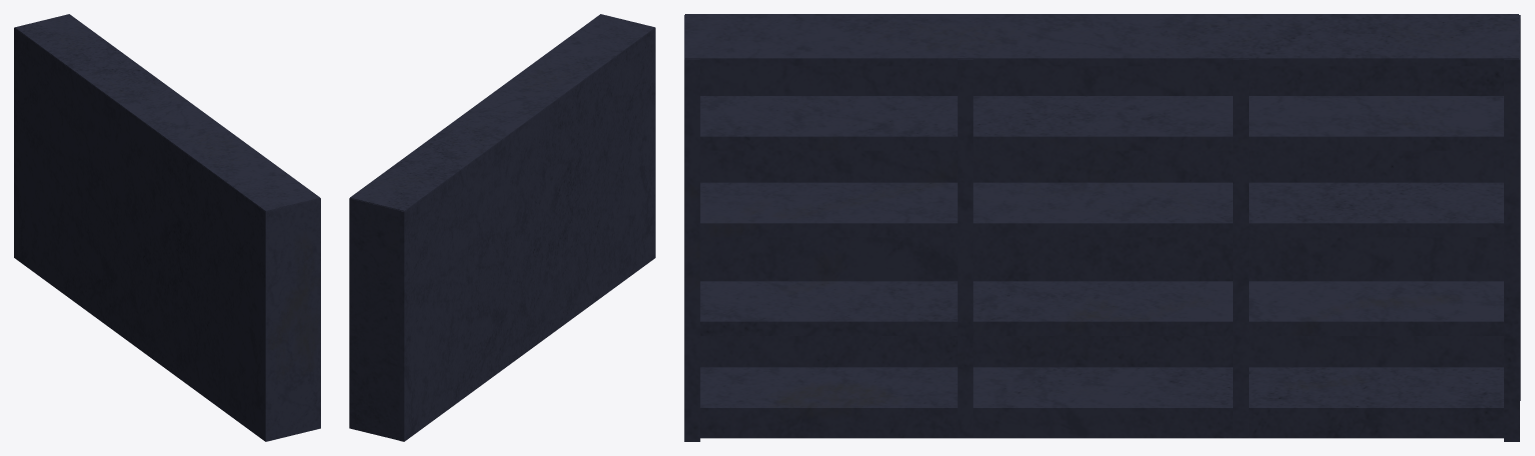
The model's file is bookshelf.fbx.
The picture shows the model from 3 angles, left to right: view 1: azimuth 30°, elevation 25°; view 2: azimuth 150°, elevation 25°; view 3: azimuth 270°, elevation 25°; orthographic projection. The views are drawn at different scales.
Parts seen in each view (by area): view 1: bookshelf:pCube1, bookshelf:pCube4, bookshelf:pCube3; view 2: bookshelf:pCube1, bookshelf:pCube4, bookshelf:pCube6; view 3: bookshelf:pCube1, bookshelf:pCube5, bookshelf:pCube4, bookshelf:pCube10, bookshelf:pCube11, bookshelf:pCube9, bookshelf:pCube3, bookshelf:pCube7, bookshelf:pCube6, bookshelf:pCube8.
Part boxes in pixels (x1,y1,x2,y2): bookshelf:pCube1: (14, 27, 265, 441); bookshelf:pCube4: (14, 14, 319, 211); bookshelf:pCube3: (265, 198, 320, 441); bookshelf:pCube1: (399, 28, 655, 441); bookshelf:pCube4: (350, 14, 655, 211); bookshelf:pCube6: (349, 198, 402, 440); bookshelf:pCube1: (700, 15, 1520, 400); bookshelf:pCube5: (700, 367, 1503, 438); bookshelf:pCube4: (685, 14, 1518, 66); bookshelf:pCube10: (700, 182, 1503, 237); bookshelf:pCube11: (700, 281, 1503, 335); bookshelf:pCube9: (700, 96, 1503, 150); bookshelf:pCube3: (684, 15, 700, 441); bookshelf:pCube7: (957, 59, 973, 436); bookshelf:pCube6: (1504, 18, 1519, 441); bookshelf:pCube8: (1233, 59, 1248, 436).
Size of the model in its own units: 2.52 by 10.09 by 19.94.
1 material, 1 textured.
